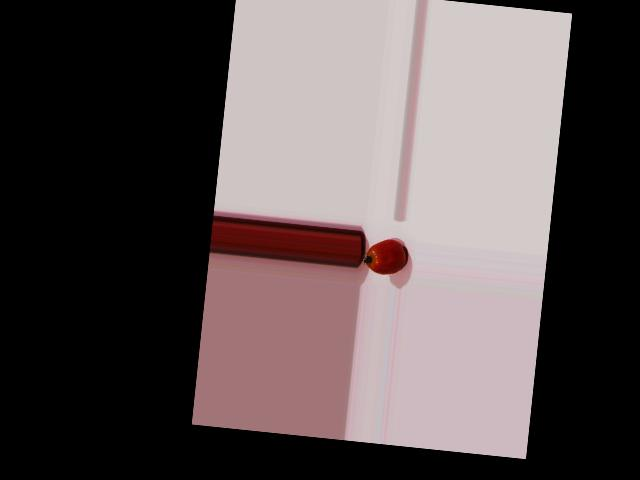tomato: (364, 237, 407, 276)
